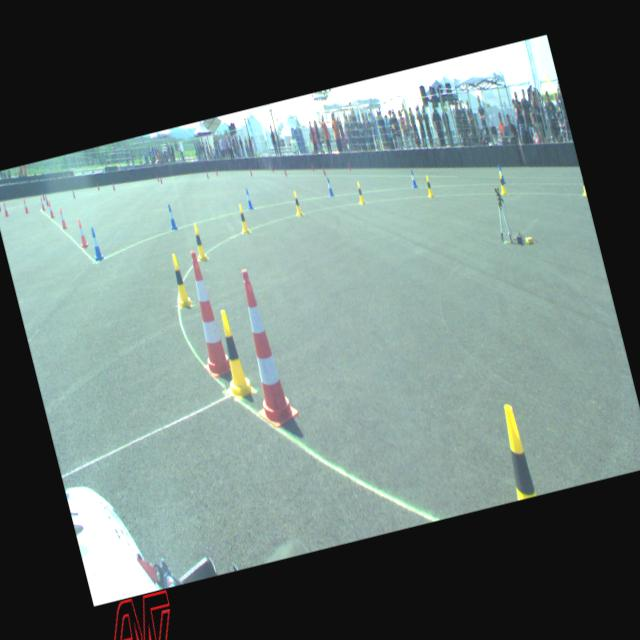blue_cone: (88, 226, 104, 260), (165, 203, 177, 230), (244, 188, 253, 209), (498, 164, 506, 184), (325, 177, 333, 196), (408, 169, 416, 187)
large_orange_cone: (224, 266, 300, 428), (176, 250, 232, 380)
orange_cone: (75, 218, 88, 247), (57, 207, 67, 229), (46, 200, 54, 218), (2, 202, 8, 216), (22, 198, 28, 212), (39, 197, 45, 210)
unknown_cone: (44, 194, 49, 206), (346, 160, 351, 171), (322, 164, 326, 176), (283, 166, 287, 176), (41, 190, 45, 200), (156, 172, 160, 182), (72, 189, 76, 198), (158, 174, 162, 183), (214, 167, 218, 176), (310, 162, 314, 171), (96, 182, 100, 190), (270, 163, 274, 171), (112, 181, 115, 190), (249, 167, 252, 176), (206, 169, 208, 178), (0, 200, 1, 211)
yellow_cone: (210, 308, 254, 398), (495, 403, 535, 499), (166, 252, 192, 308), (190, 222, 207, 260), (236, 202, 250, 233), (290, 190, 302, 216), (354, 181, 364, 204), (496, 171, 506, 194), (424, 175, 434, 197), (578, 174, 586, 195)
